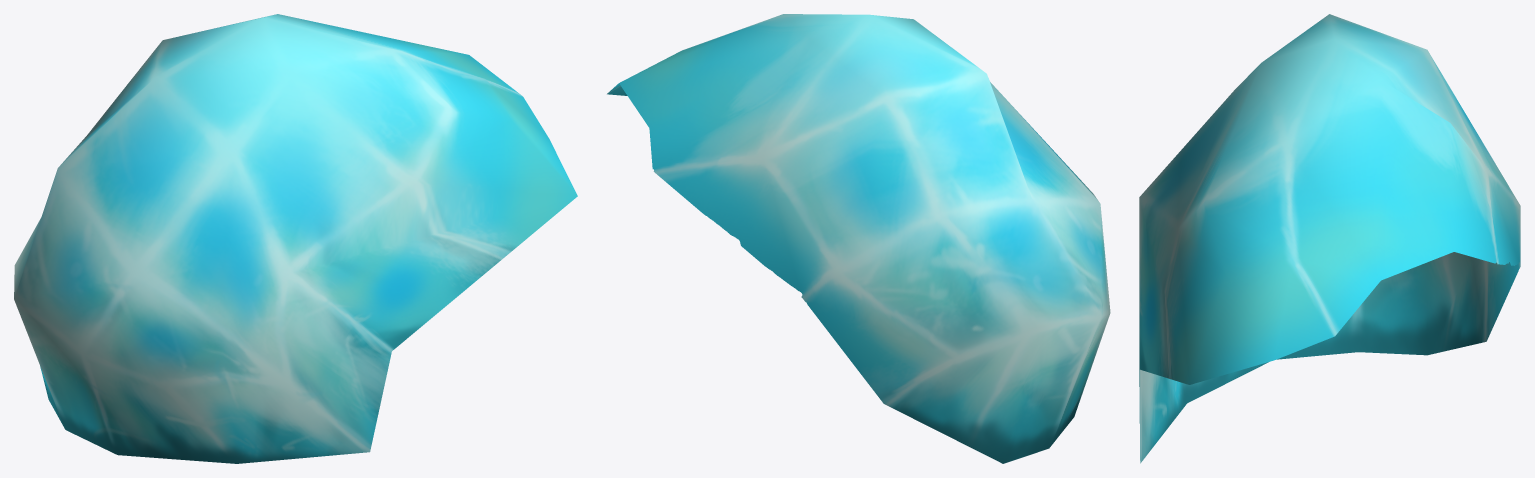
Rendered from crystal.fbx.
The picture shows the model from 3 angles, left to right: view 1: azimuth 30°, elevation 25°; view 2: azimuth 150°, elevation 25°; view 3: azimuth 270°, elevation 25°; orthographic projection. The views are drawn at different scales.
Parts seen in each view (by area): view 1: polySurface2184; view 2: polySurface2184; view 3: polySurface2184.
Part boxes in pixels (x1,y1,x2,y2): polySurface2184: [14, 14, 577, 463]; polySurface2184: [607, 14, 1110, 463]; polySurface2184: [1139, 14, 1520, 463].
Size of the model in its own units: 9.85 by 7.07 by 5.89.
Materials: 1 (1 with a texture image).
